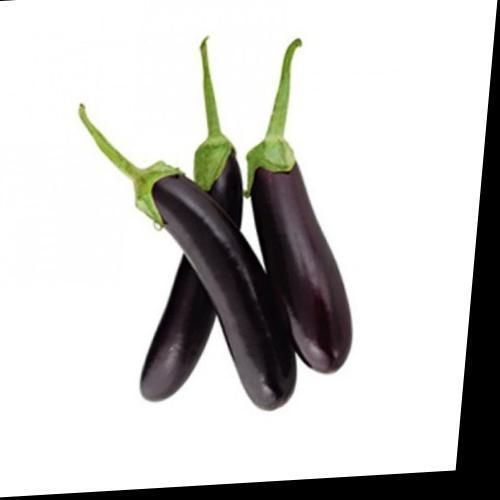eggplant: (22, 12, 416, 452)
